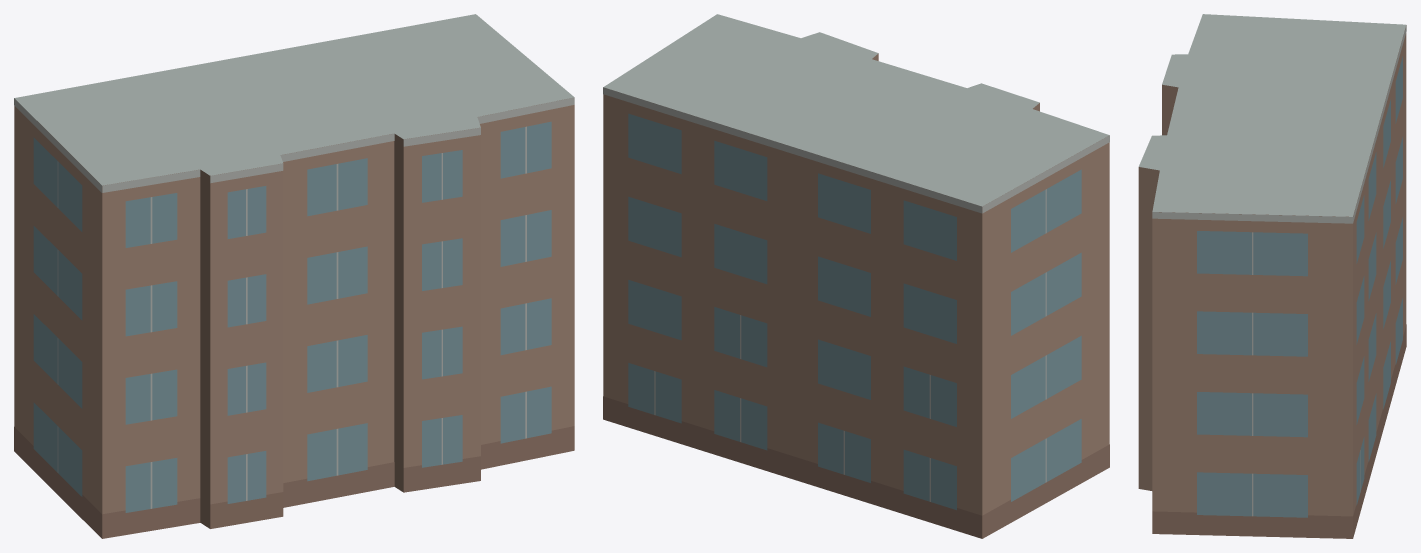
File: survey-upis-32954689.glb
3 renders of one model, left to right at view 1: azimuth 30°, elevation 25°; view 2: azimuth 150°, elevation 25°; view 3: azimuth 270°, elevation 25°, orthographic. The views are drawn at different scales.
Visible parts, largest first — view 1: survey-upis-32954689.tmp; view 2: survey-upis-32954689.tmp; view 3: survey-upis-32954689.tmp.
Part boxes in pixels (bbox=[...]): survey-upis-32954689.tmp: bbox=[14, 14, 574, 538]; survey-upis-32954689.tmp: bbox=[603, 14, 1109, 538]; survey-upis-32954689.tmp: bbox=[1138, 14, 1406, 538].
Bounding box in the file's own units: 15.62 × 11.55 × 8.72.
